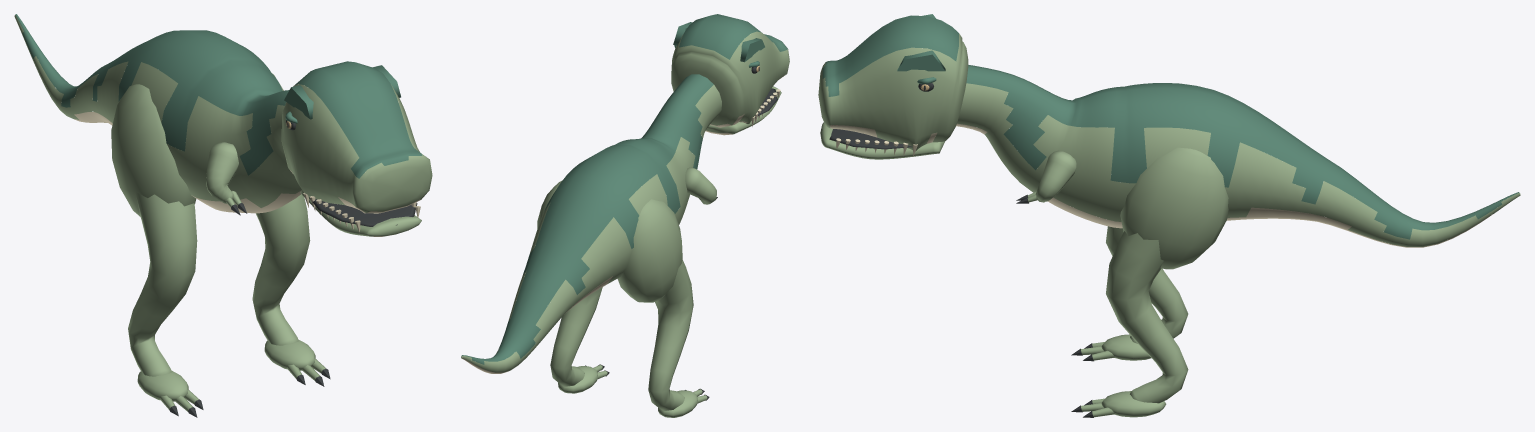
Rendered from primeval-frontier-tyrannosaurus-rex-54d1b3b3.glb.
The picture shows the model from 3 angles, left to right: view 1: azimuth 30°, elevation 25°; view 2: azimuth 150°, elevation 25°; view 3: azimuth 270°, elevation 25°; orthographic projection. The views are drawn at different scales.
Visible parts, largest first — view 1: tyrannosaurus-rex; view 2: tyrannosaurus-rex; view 3: tyrannosaurus-rex.
Boxes of the visible parts, x1=… form: tyrannosaurus-rex: x1=14, y1=14, x2=432, y2=417; tyrannosaurus-rex: x1=461, y1=14, x2=789, y2=417; tyrannosaurus-rex: x1=818, y1=14, x2=1520, y2=417.
Bounding box in the file's own units: 2.36 × 5.41 × 9.47.
